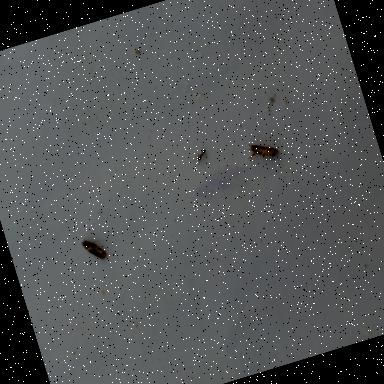pbw: (243, 136, 281, 166), (78, 233, 108, 264)
